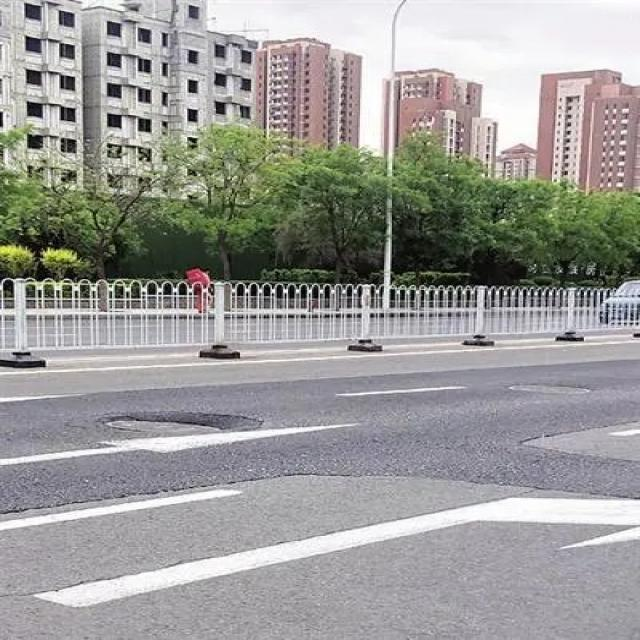Pothole: (98, 411, 262, 435), (507, 382, 589, 395)
